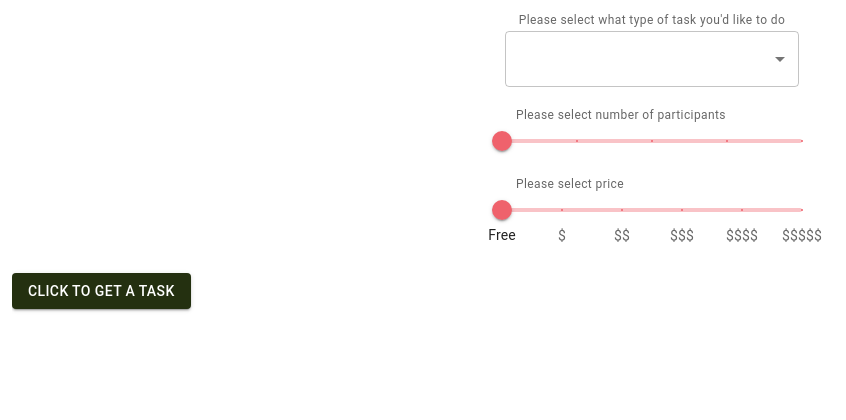
TaskSearch Component › should fetch task  and render task component on button click
The width and height of the screenshot is (846, 420).
Click the button "Click to get a task" at (101, 291), box left=12, top=273, right=191, bottom=309
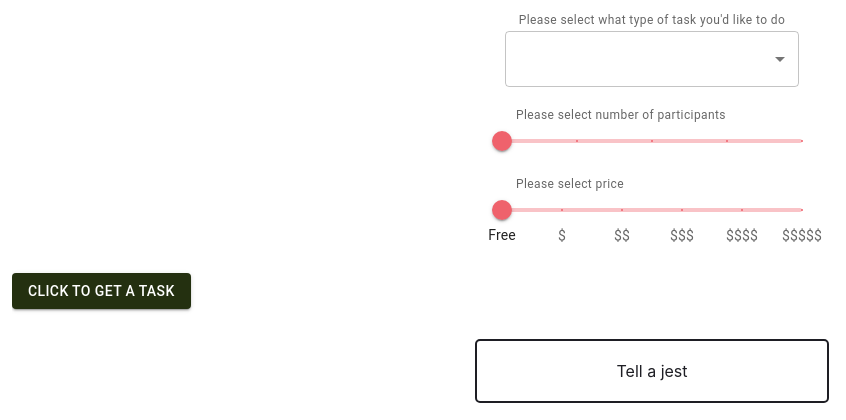
Expected: the text "Tell a jest" is shown, left=616, top=361, right=688, bottom=381
